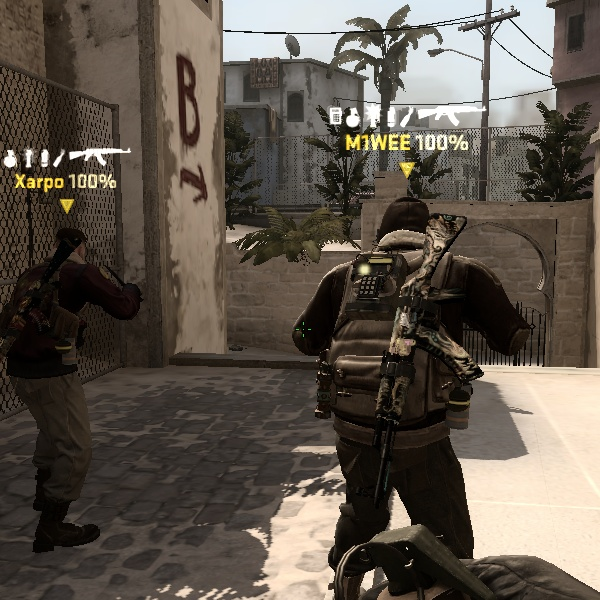t_body: (270, 195, 523, 595), (3, 221, 165, 548)
t_head: (361, 193, 458, 279), (46, 218, 100, 268)
